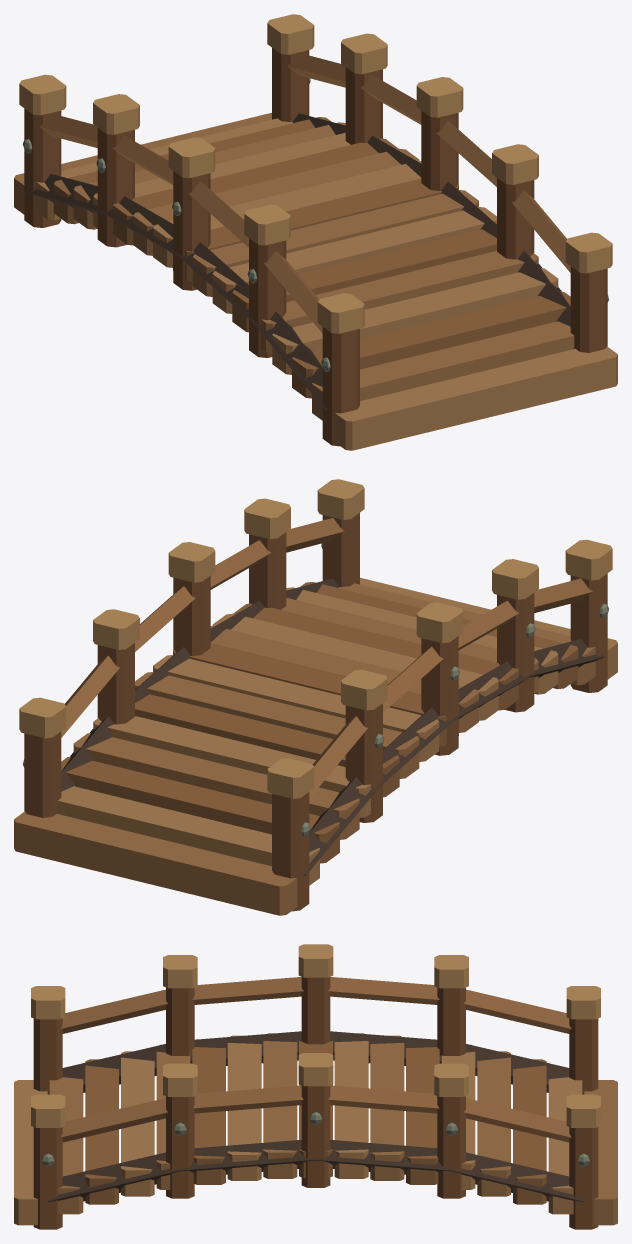
File: bridge.glb
3 renders of one model, top to bottom at view 1: azimuth 30°, elevation 25°; view 2: azimuth 150°, elevation 25°; view 3: azimuth 270°, elevation 25°, orthographic. The views are drawn at different scales.
Visible parts, largest first — view 1: Timber_Bridge; view 2: Timber_Bridge; view 3: Timber_Bridge.
Boxes of the visible parts, x1=… form: Timber_Bridge: x1=14, y1=14, x2=617, y2=450; Timber_Bridge: x1=14, y1=479, x2=617, y2=915; Timber_Bridge: x1=14, y1=944, x2=617, y2=1229.
Bounding box in the file's own units: 1.63 × 0.9969 × 3.34.
